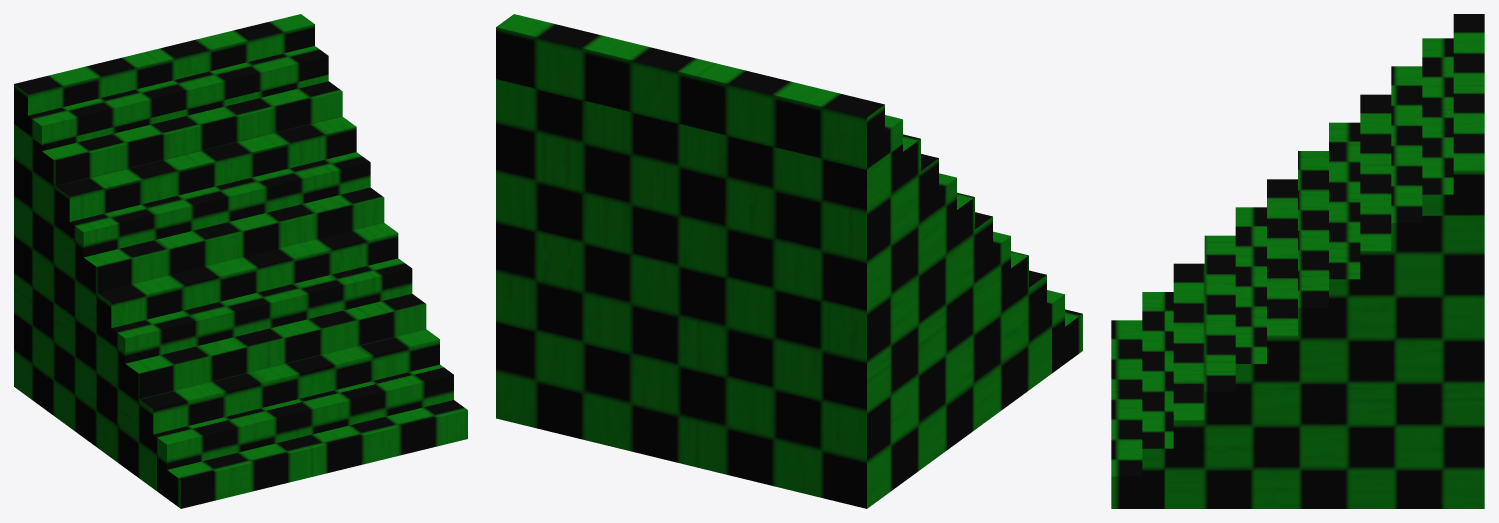
File: Stairs.fbx
3 renders of one model, left to right at view 1: azimuth 30°, elevation 25°; view 2: azimuth 150°, elevation 25°; view 3: azimuth 270°, elevation 25°, orthographic. The views are drawn at different scales.
Parts seen in each view (by area): view 1: Cube; view 2: Cube; view 3: Cube.
Part boxes in pixels (x1,y1,x2,y2): Cube: [14, 14, 467, 508]; Cube: [496, 14, 1082, 508]; Cube: [1111, 14, 1484, 508].
Bounding box in the file's own units: 405 × 408 × 408.
